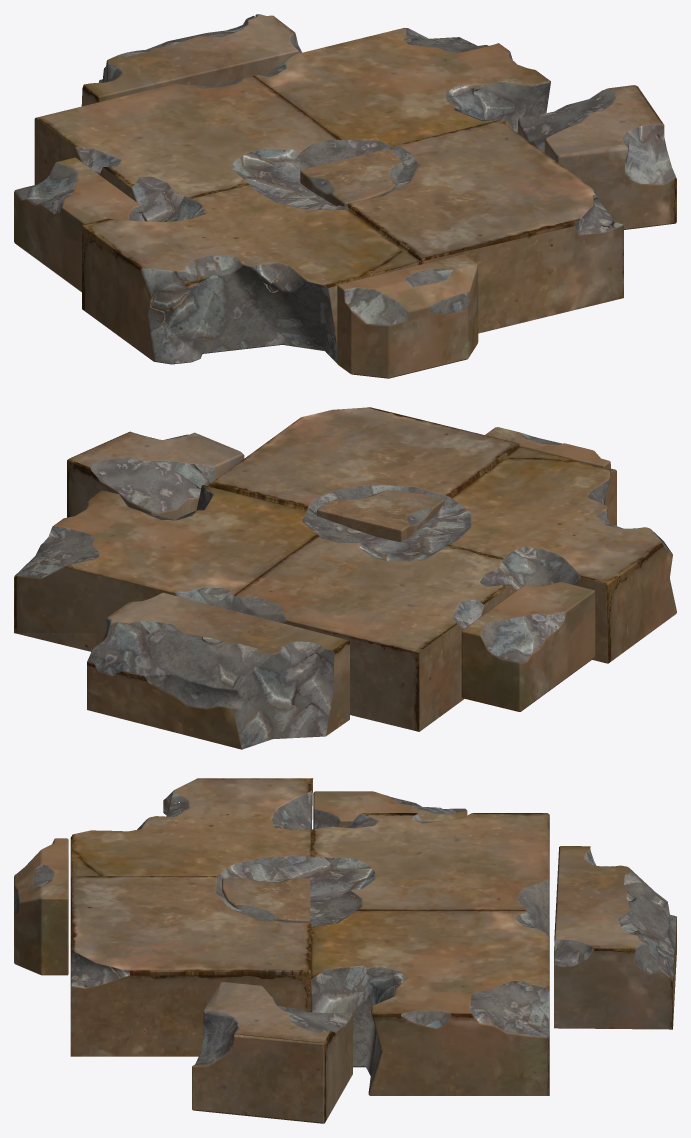
3 views of the same model, one above another, from view 1: azimuth 30°, elevation 25°; view 2: azimuth 150°, elevation 25°; view 3: azimuth 270°, elevation 25° (orthographic). The views are drawn at different scales.
Visible parts, largest first — view 1: SM_Vault_4m_Floor_Dmg_01_V3_LOD0; view 2: SM_Vault_4m_Floor_Dmg_01_V3_LOD0; view 3: SM_Vault_4m_Floor_Dmg_01_V3_LOD0.
Boxes of the visible parts, left/top/right/bottom form: SM_Vault_4m_Floor_Dmg_01_V3_LOD0: left=14, top=14, right=676, bottom=378; SM_Vault_4m_Floor_Dmg_01_V3_LOD0: left=14, top=407, right=676, bottom=749; SM_Vault_4m_Floor_Dmg_01_V3_LOD0: left=14, top=778, right=676, bottom=1123.
Size of the model in its own units: 3.5 by 0.5249 by 3.69.
Materials: 2 (2 with a texture image).
